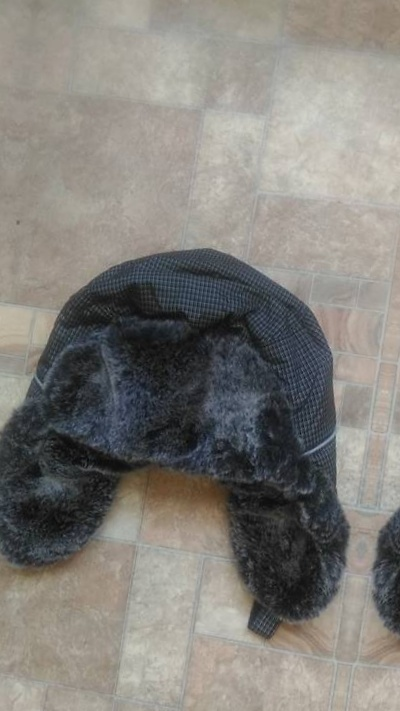Hat: (0, 187, 392, 661), (361, 244, 400, 711)
